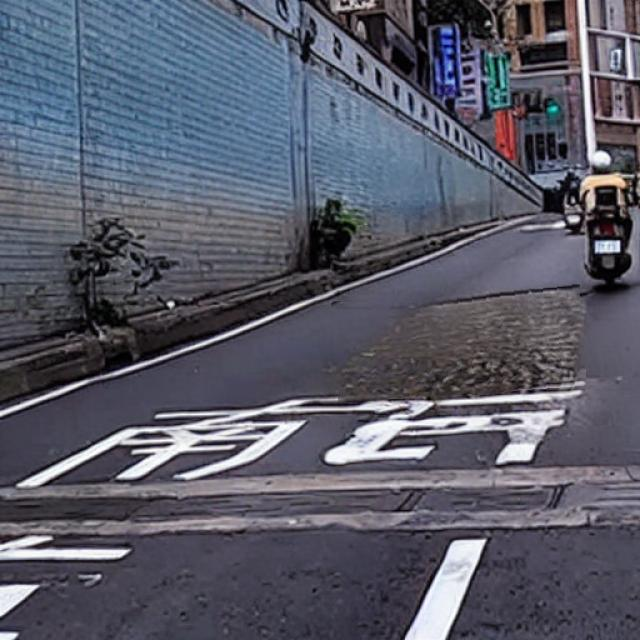puddle: (334, 290, 586, 400)
